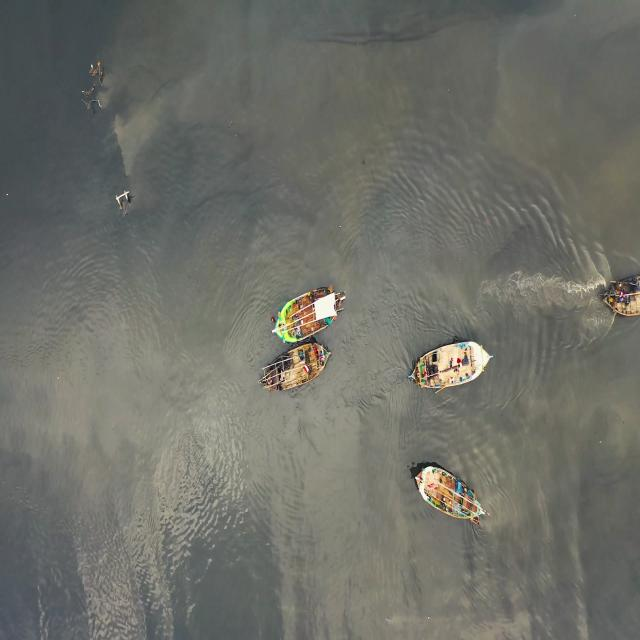ship: (411, 463, 487, 530), (268, 282, 352, 340), (412, 337, 490, 386), (258, 341, 333, 391), (602, 266, 637, 323)
